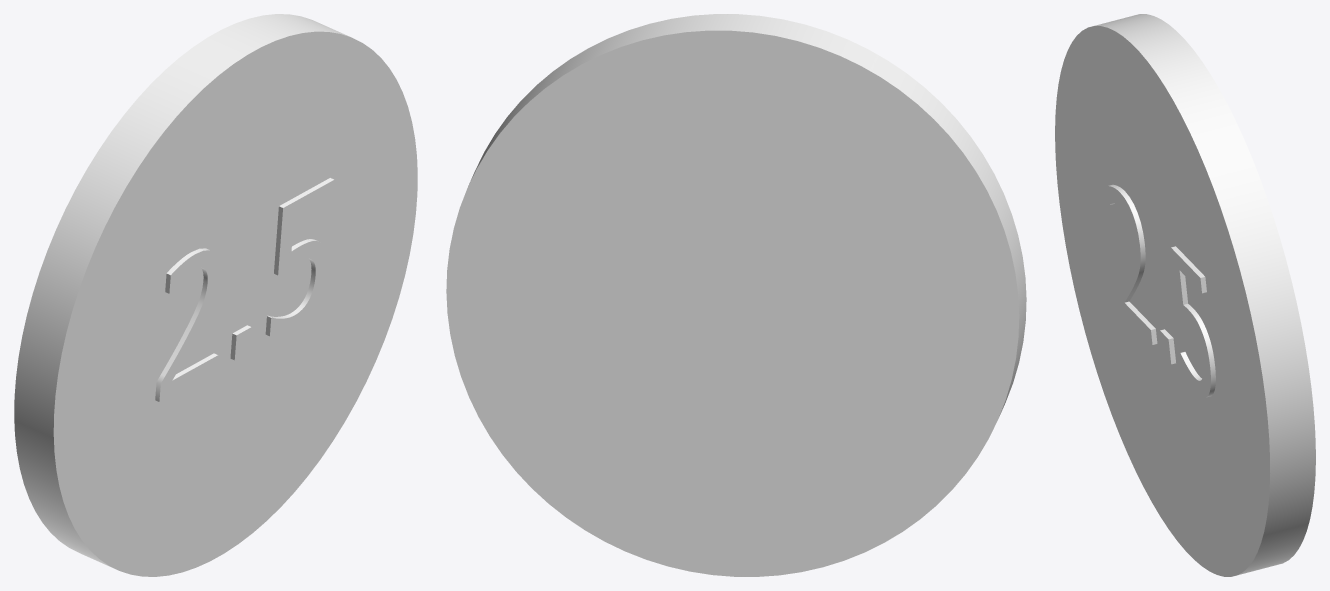
Rendered from Prinivil.fbx.
3 views of the same model, side by side, from view 1: azimuth 30°, elevation 25°; view 2: azimuth 150°, elevation 25°; view 3: azimuth 270°, elevation 25° (orthographic). The views are drawn at different scales.
Visible parts, largest first — view 1: node_id87, node_id75; view 2: node_id87; view 3: node_id87, node_id75.
Part boxes in pixels (bbox=[...]): node_id87: bbox=[14, 14, 417, 576]; node_id75: bbox=[155, 178, 334, 401]; node_id87: bbox=[446, 14, 1026, 576]; node_id87: bbox=[1055, 14, 1315, 576]; node_id75: bbox=[1107, 184, 1215, 397].
Size of the model in its own units: 0.8045 by 0.839 by 0.3839.
2 materials, 2 textured.
